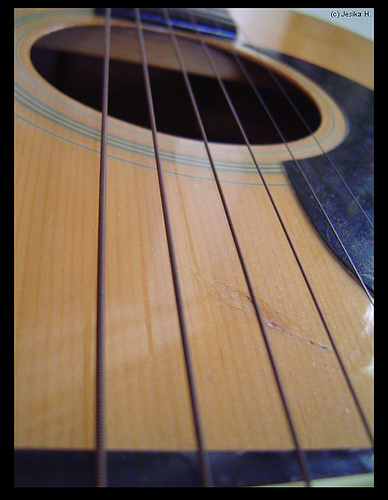guitar: (13, 8, 375, 488)
